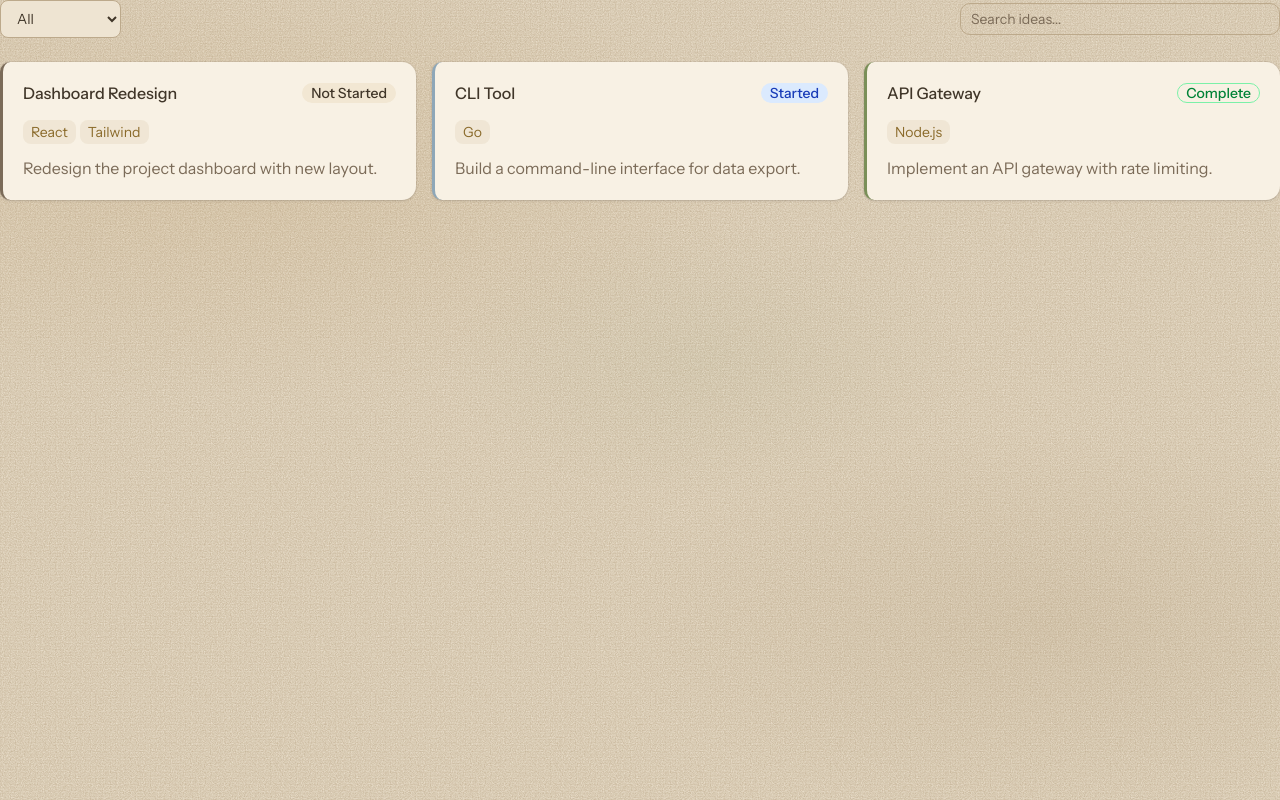
it: IdeasGrid › filters by started status
Select "Started" in the dropdown named "Filter by status" at [60, 19], box 0,0 -> 121,38
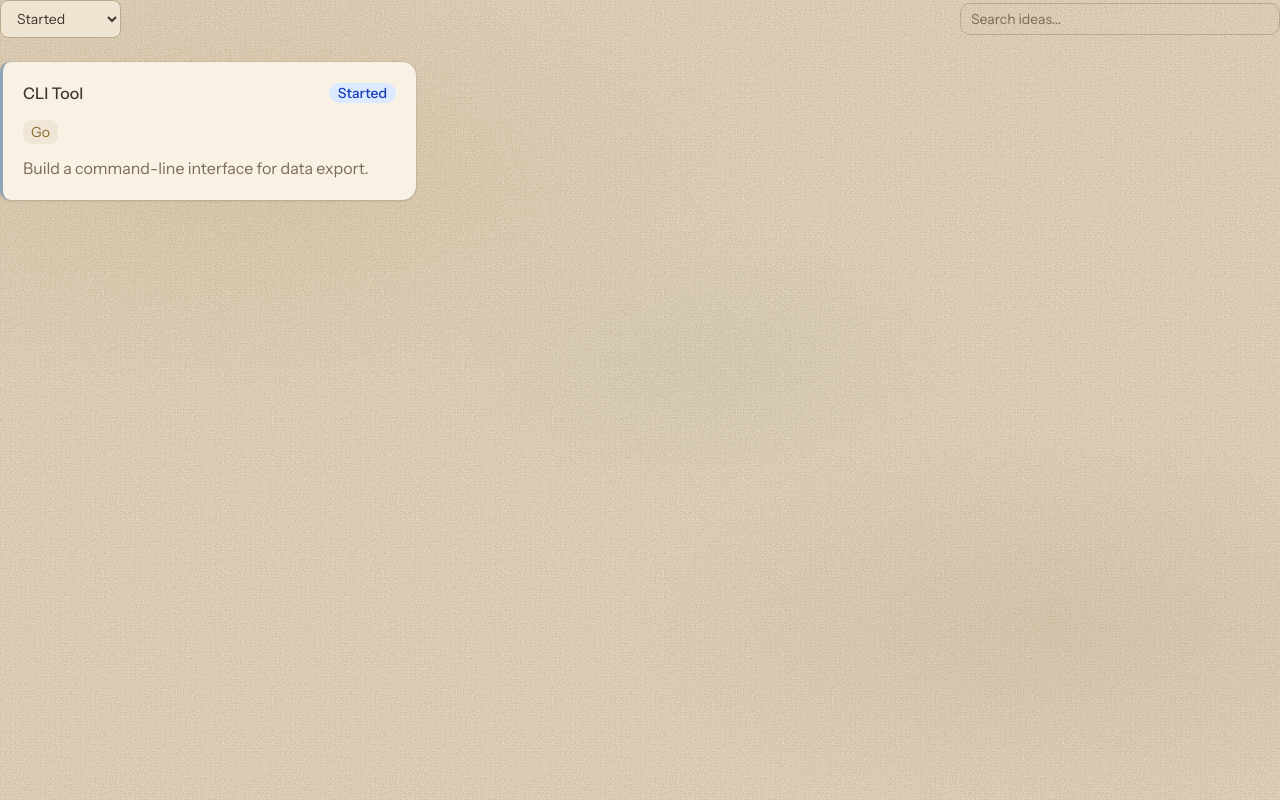
Expected: the text "CLI Tool" is shown, 23,82 -> 83,104
Now the link "Dashboard Redesign" is gone
Now the link "API Gateway" is gone
